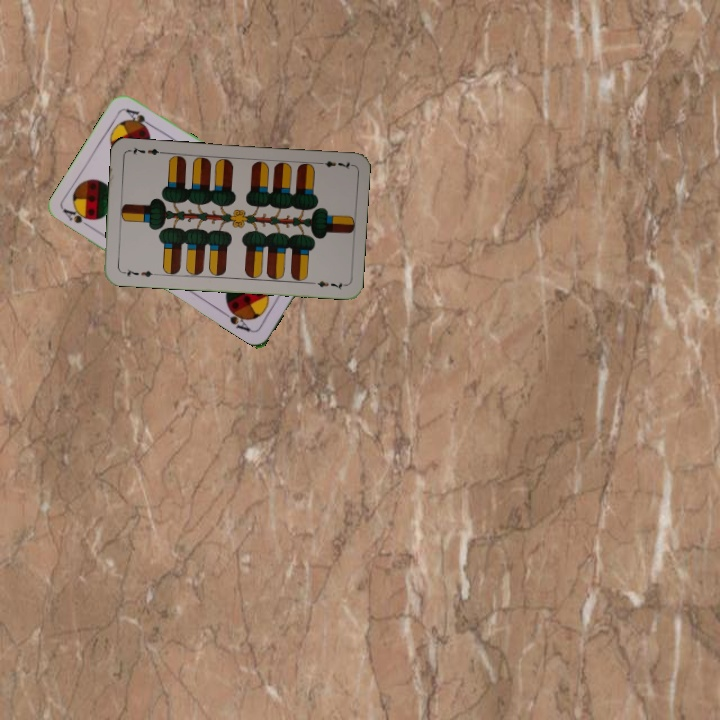E7: (313, 156, 354, 171), (118, 265, 158, 280)
SA: (60, 205, 96, 232)
